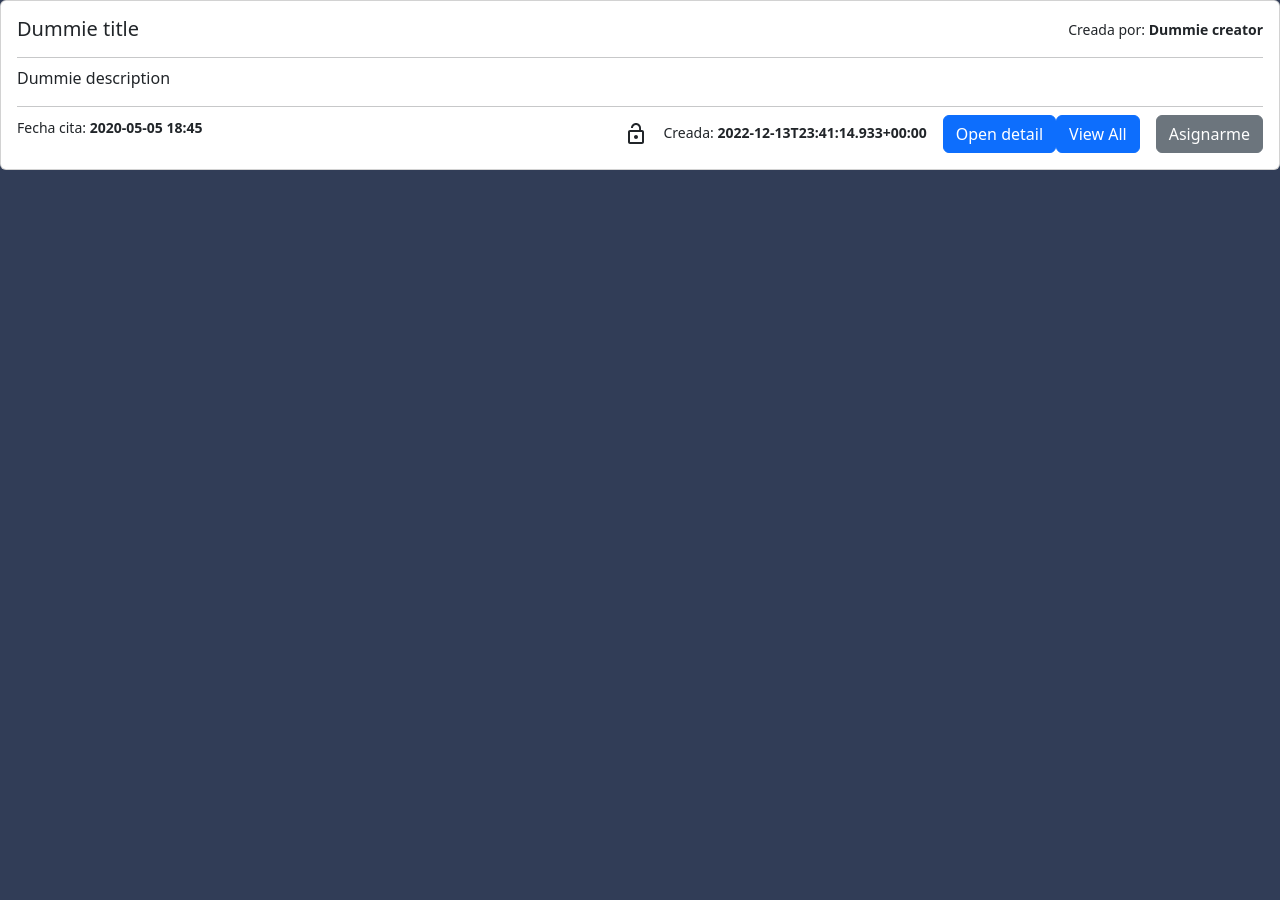
Test: CasesCard › El botón detalle debe abrir la ventana modal (cambia el estado del boton a disabled)
Click the button "Open detail" at x=999, y=134, box [943,115,1056,153]
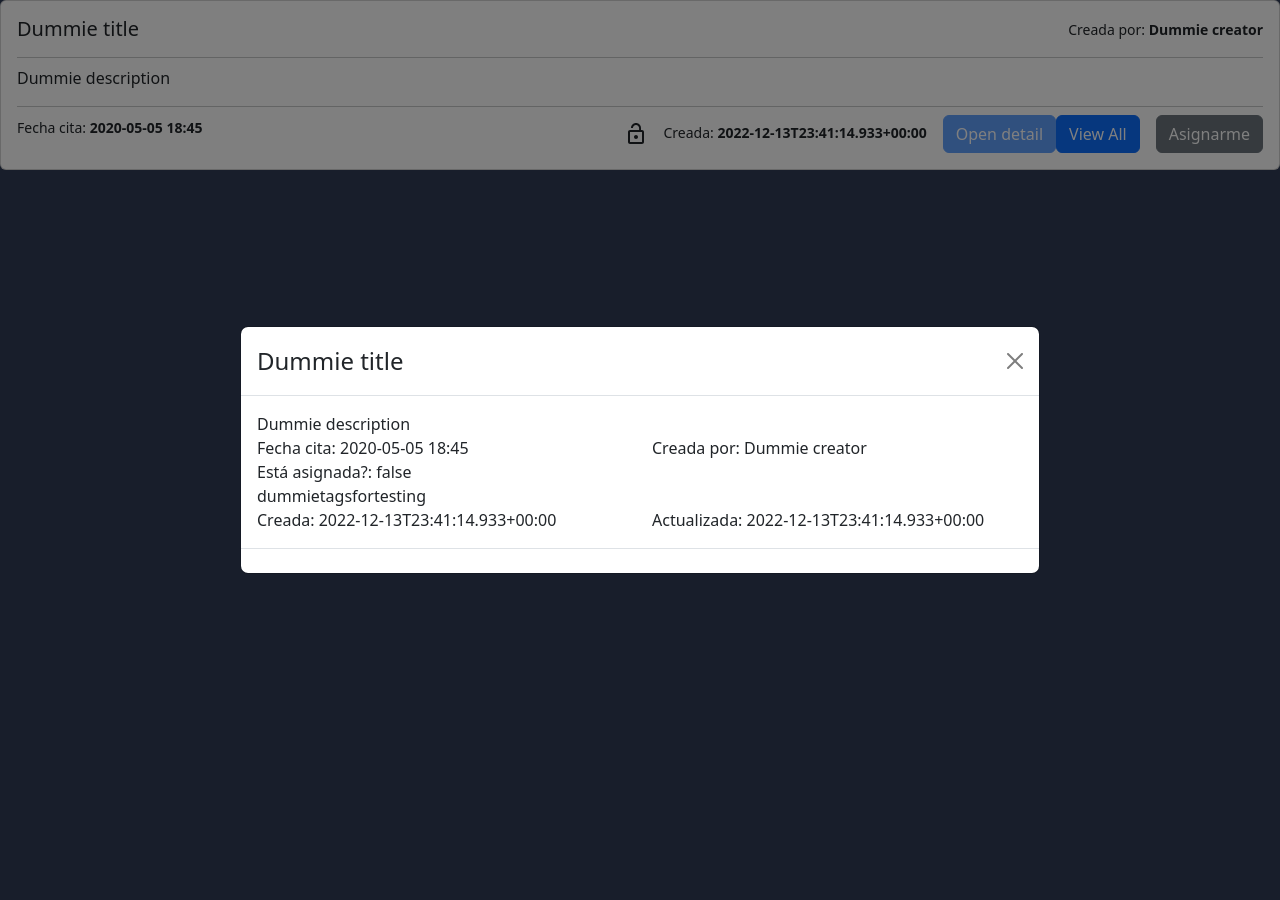
Result: the button "Open detail" is disabled at [943,115,1056,153]
